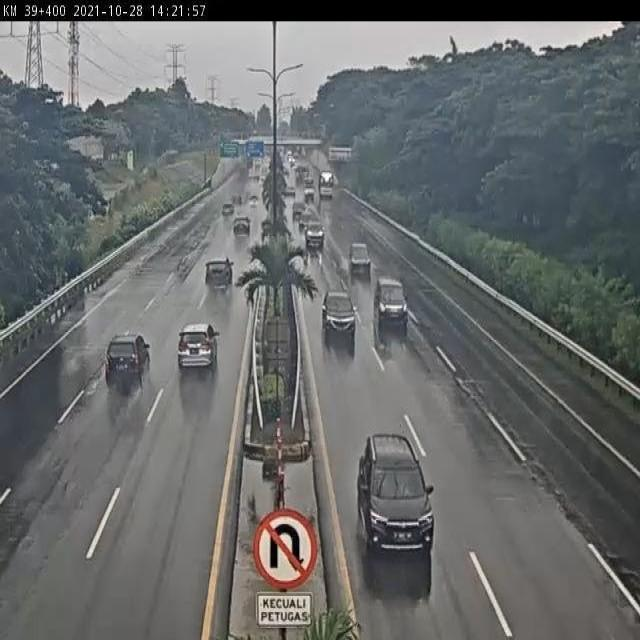Car: (352, 429, 437, 566), (100, 324, 151, 395), (175, 320, 220, 375), (374, 278, 411, 338), (321, 289, 358, 346), (202, 256, 236, 288), (348, 241, 370, 277), (304, 220, 326, 249), (232, 217, 252, 234), (222, 202, 234, 218), (249, 193, 258, 210)
Truck: (318, 172, 336, 200)
